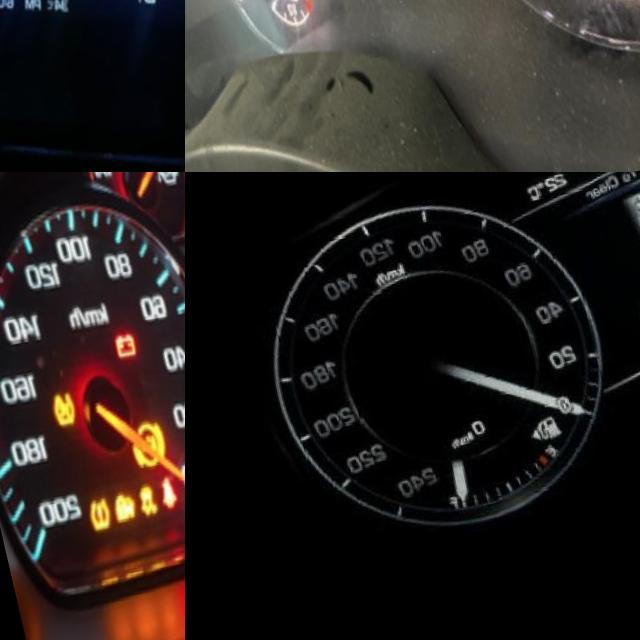security: (86, 494, 116, 532)
